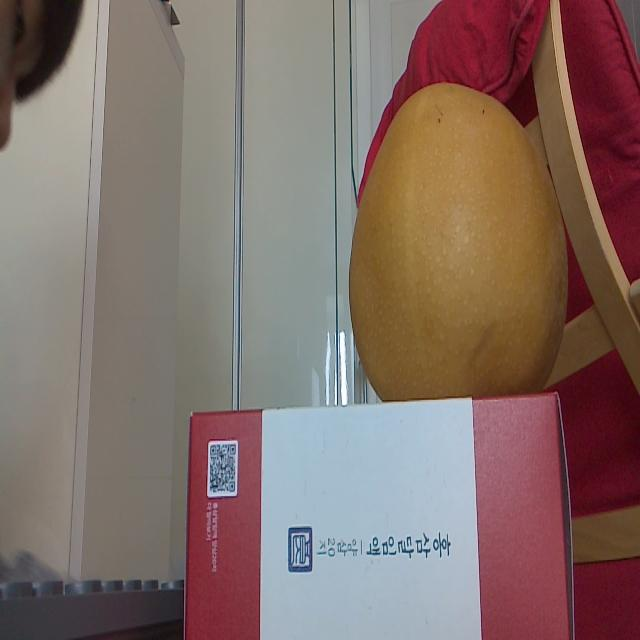pear: (349, 85, 567, 395)
